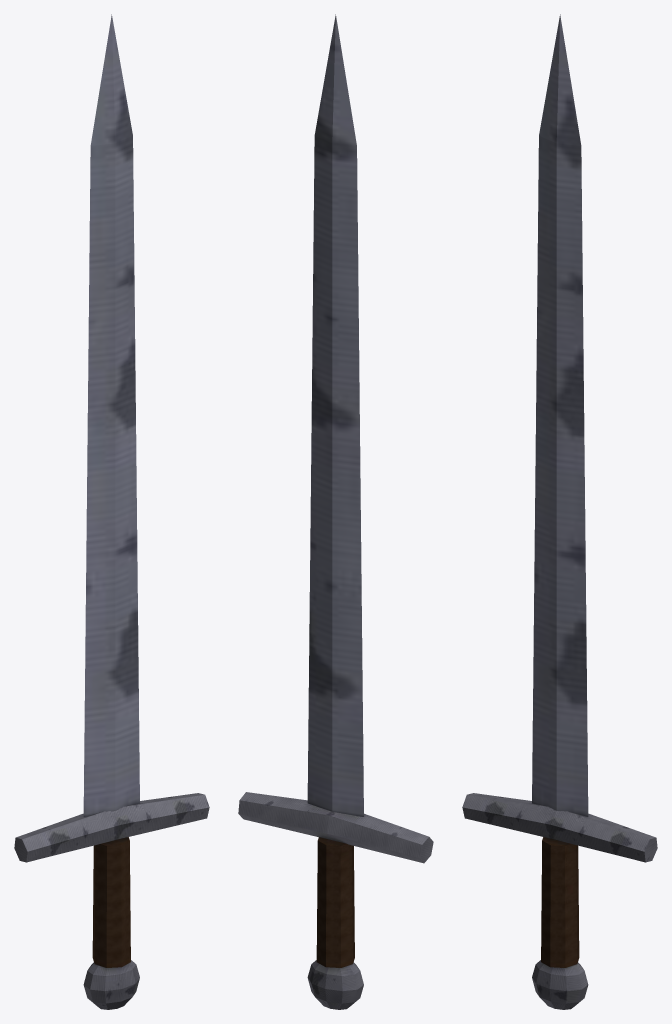
The model's file is w_sword.glb.
The picture shows the model from 3 angles, left to right: view 1: azimuth 30°, elevation 25°; view 2: azimuth 150°, elevation 25°; view 3: azimuth 330°, elevation 25°; orthographic projection.
Parts seen in each view (by area): view 1: blade, hilt, grip; view 2: blade, hilt, grip; view 3: blade, hilt, grip.
Boxes of the visible parts, x1,y1,x2,y2 form: blade: (83, 14, 139, 816); hilt: (14, 793, 209, 1009); grip: (92, 837, 130, 967); blade: (307, 14, 363, 816); hilt: (238, 792, 433, 1009); grip: (316, 837, 354, 967); blade: (532, 14, 588, 816); hilt: (462, 793, 657, 1009); grip: (541, 837, 579, 967).
Bounding box in the file's own units: 0.1813 × 0.941 × 0.0364.
Materials: 3 (3 with a texture image).
